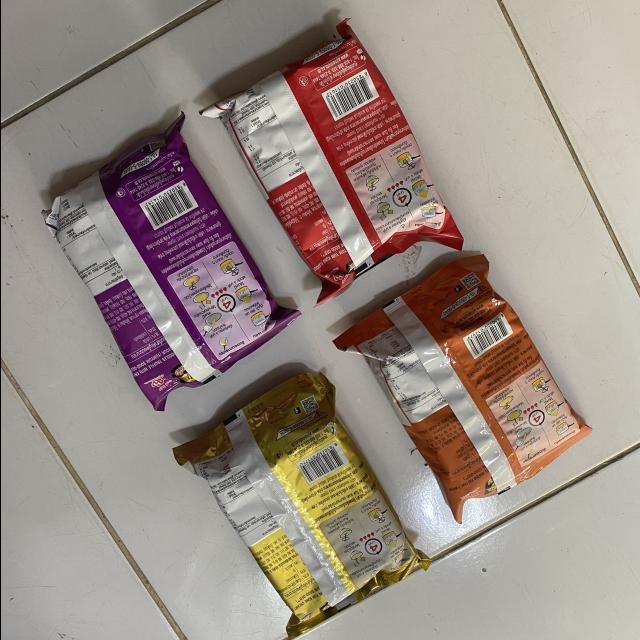plastik: (42, 114, 299, 411), (200, 20, 462, 305), (333, 255, 590, 523), (173, 373, 430, 637)
